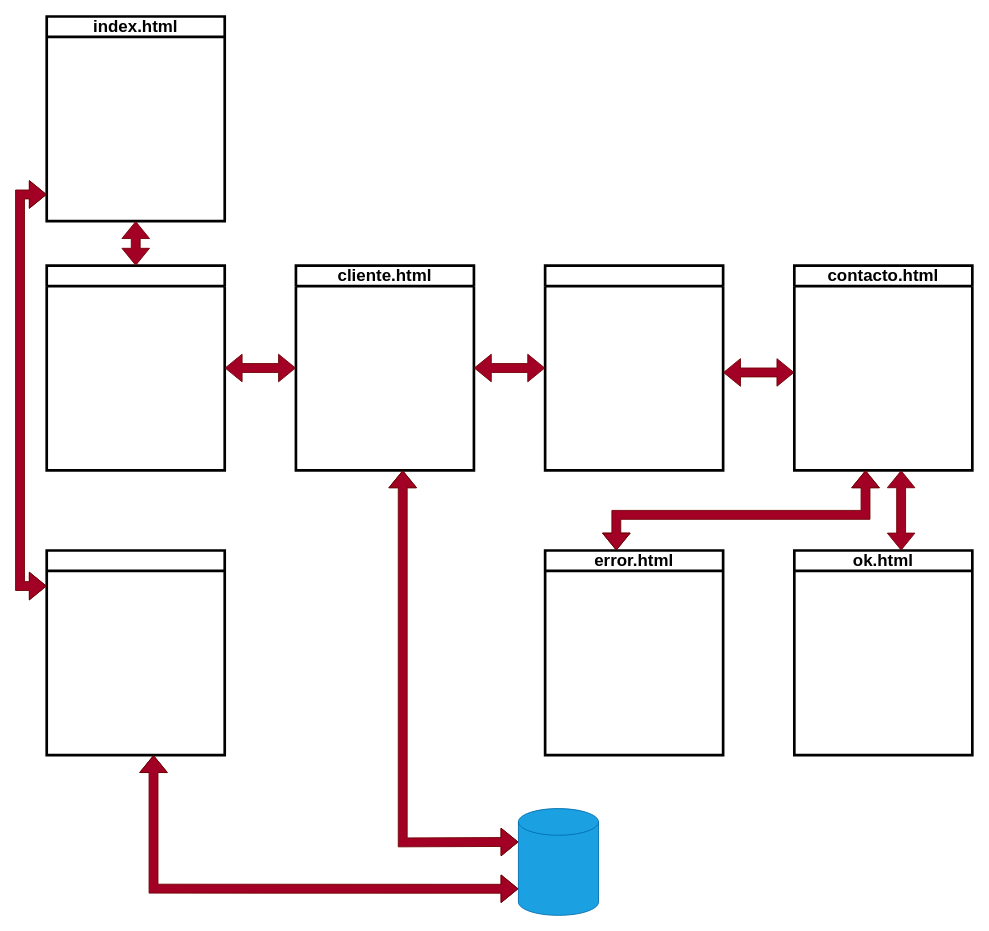
Some shapes in this 989 by 931 pixel diagram are drawn without their labels. The box of each missing label's shape, as (x1, y1, x2, y2) in pixels:
alta_nueva.html: (45, 549, 226, 756)
galeria.html: (543, 264, 724, 471)
servicio.html: (45, 264, 226, 471)
